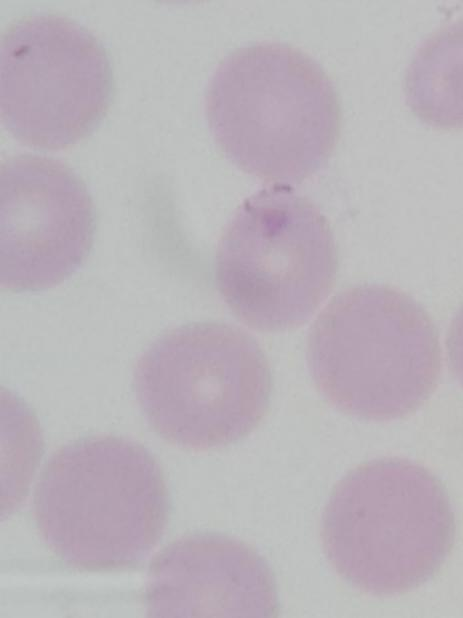Uninfected: (305, 282, 438, 424), (212, 184, 335, 334), (205, 41, 337, 180), (33, 439, 173, 570), (132, 317, 267, 446), (322, 457, 449, 591), (2, 16, 109, 152), (0, 154, 89, 292), (148, 532, 282, 618)
